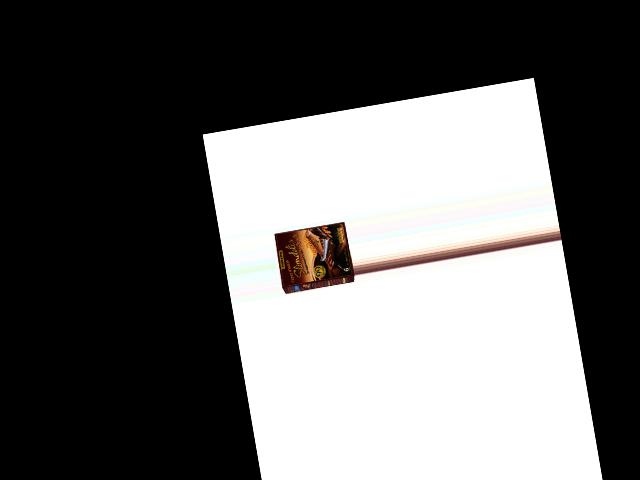chocolate: (271, 215, 356, 298)
